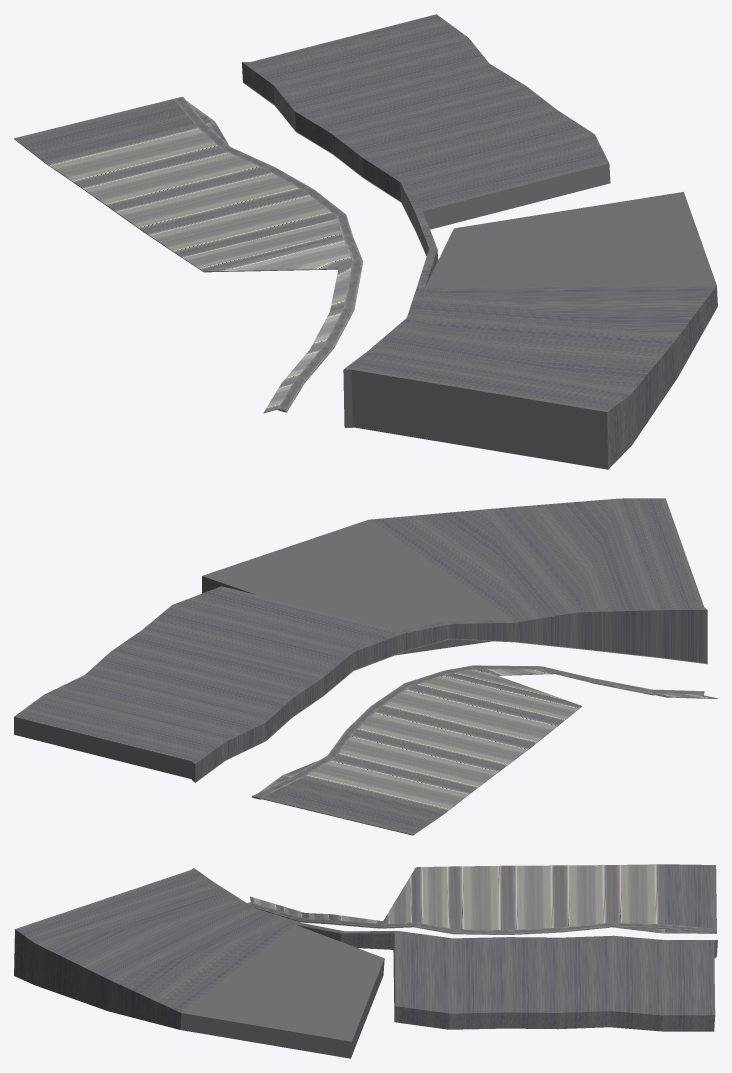
File: curved wall test.FBX
3 views of the same model, one above another, from view 1: azimuth 30°, elevation 25°; view 2: azimuth 150°, elevation 25°; view 3: azimuth 270°, elevation 25° (orthographic). The views are drawn at different scales.
Parts seen in each view (by area): view 1: polySurface1; view 2: polySurface1; view 3: polySurface1.
Part boxes in pixels (left/top/right/bottom): polySurface1: left=14, top=14, right=717, bottom=469; polySurface1: left=14, top=498, right=717, bottom=835; polySurface1: left=14, top=864, right=717, bottom=1058.
Bounding box in the file's own units: 0.6224 × 0.0977 × 0.9636.
